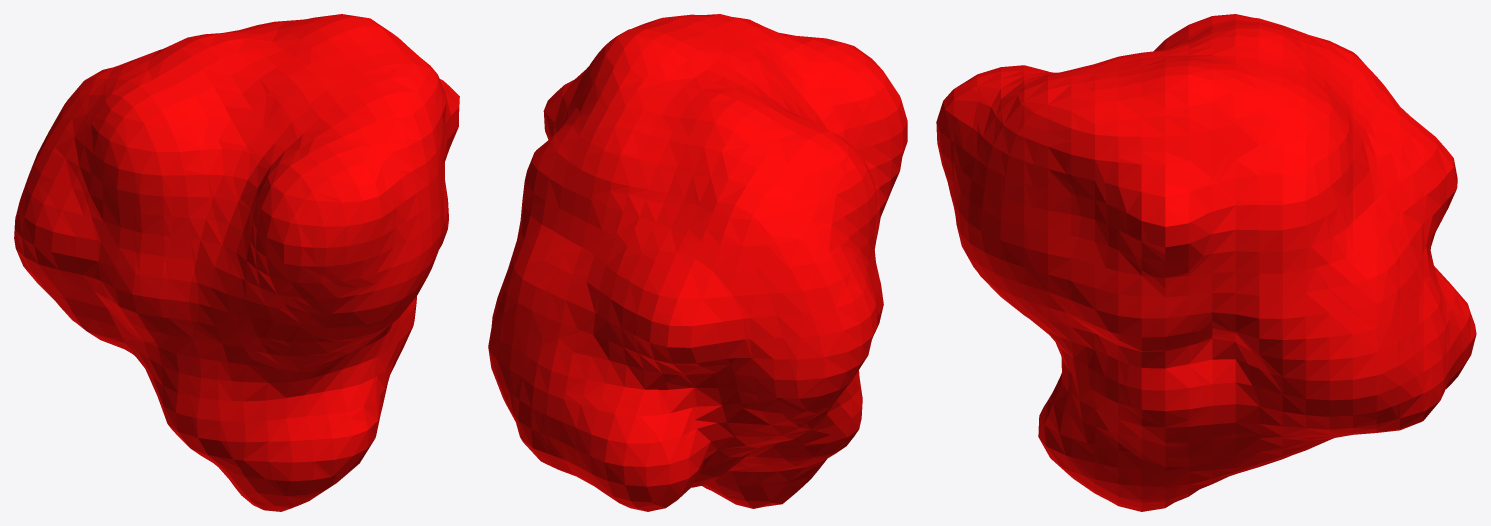
The model's file is ymdB_coarse.dae.
3 renders of one model, left to right at view 1: azimuth 30°, elevation 25°; view 2: azimuth 150°, elevation 25°; view 3: azimuth 270°, elevation 25°, orthographic. The views are drawn at different scales.
Visible parts, largest first — view 1: ymdB; view 2: ymdB; view 3: ymdB.
Part boxes in pixels (box(x1,y1,x2,y2)): ymdB: box(14, 14, 459, 511); ymdB: box(488, 14, 907, 511); ymdB: box(936, 14, 1476, 511).
Bounding box in the file's own units: 39.56 × 45.61 × 46.2.
